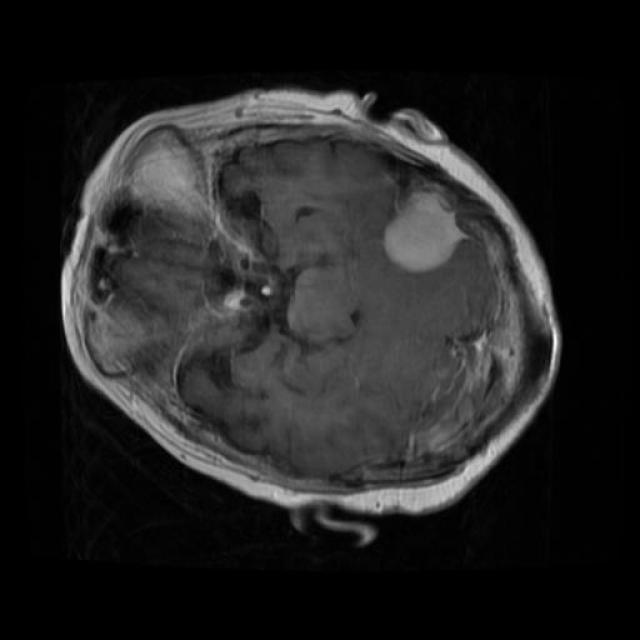Meningioma: (383, 189, 465, 273)
